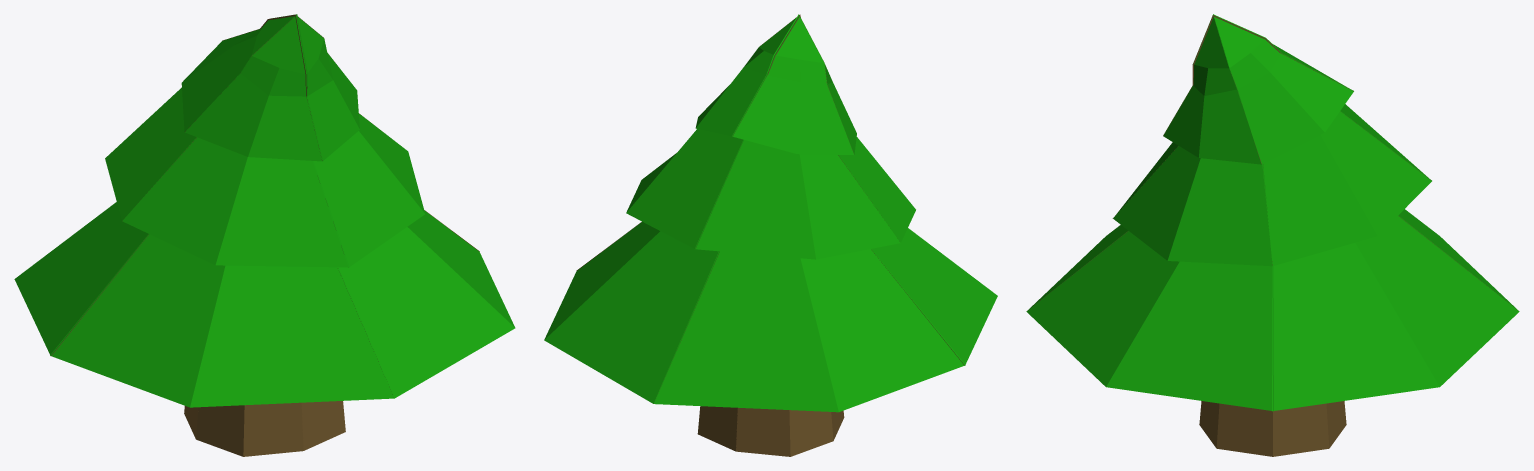
Rendered from tree_2.fbx.
3 renders of one model, left to right at view 1: azimuth 30°, elevation 25°; view 2: azimuth 150°, elevation 25°; view 3: azimuth 270°, elevation 25°, orthographic. The views are drawn at different scales.
Visible parts, largest first — view 1: Куб; view 2: Куб; view 3: Куб.
Boxes of the visible parts, x1,y1,x2,y2 form: Куб: (14, 14, 515, 456); Куб: (544, 14, 997, 456); Куб: (1026, 14, 1519, 456).
Bounding box in the file's own units: 621 × 596 × 650.
